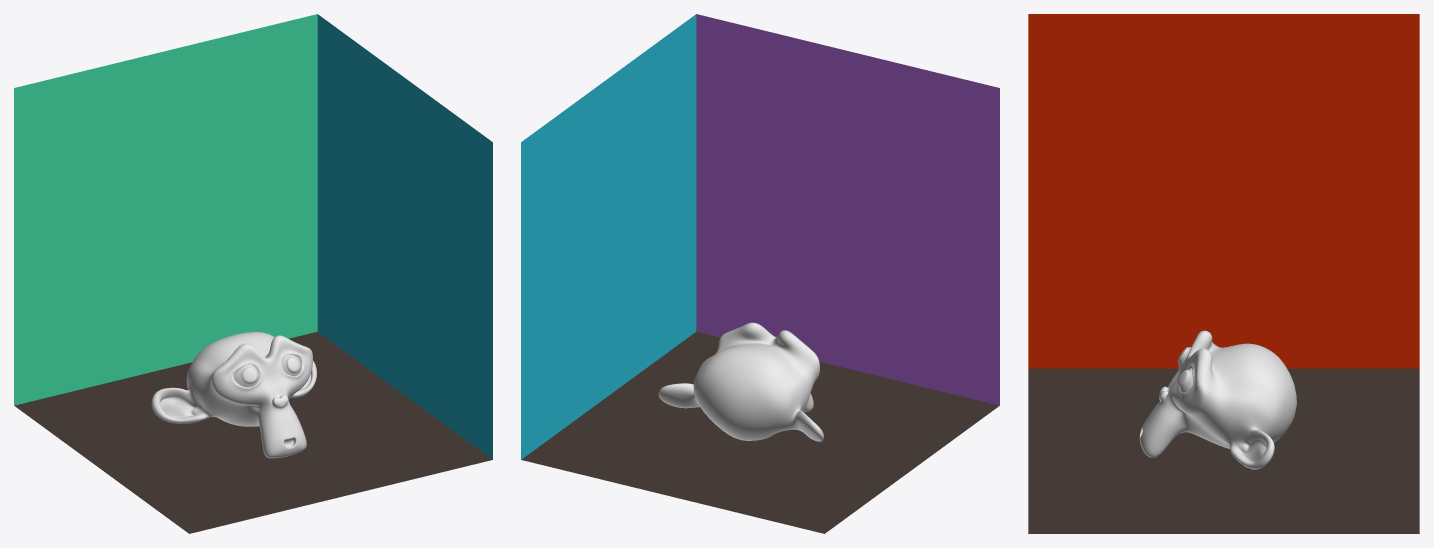
Rendered from light_probe.glb.
3 views of the same model, side by side, from view 1: azimuth 30°, elevation 25°; view 2: azimuth 150°, elevation 25°; view 3: azimuth 270°, elevation 25° (orthographic). The views are drawn at different scales.
Parts seen in each view (by area): view 1: walls, floor, Suzanne; view 2: walls, floor, Suzanne; view 3: walls, floor, Suzanne.
Boxes of the visible parts, x1=… form: walls: x1=14, y1=14, x2=492, y2=459; floor: x1=14, y1=331, x2=492, y2=533; Suzanne: x1=151, y1=332, x2=316, y2=458; walls: x1=521, y1=14, x2=999, y2=459; floor: x1=521, y1=331, x2=999, y2=533; Suzanne: x1=658, y1=322, x2=823, y2=441; walls: x1=1028, y1=14, x2=1419, y2=368; floor: x1=1028, y1=368, x2=1419, y2=533; Suzanne: x1=1139, y1=330, x2=1296, y2=469.
Bounding box in the file's own units: 2 × 2 × 2.
